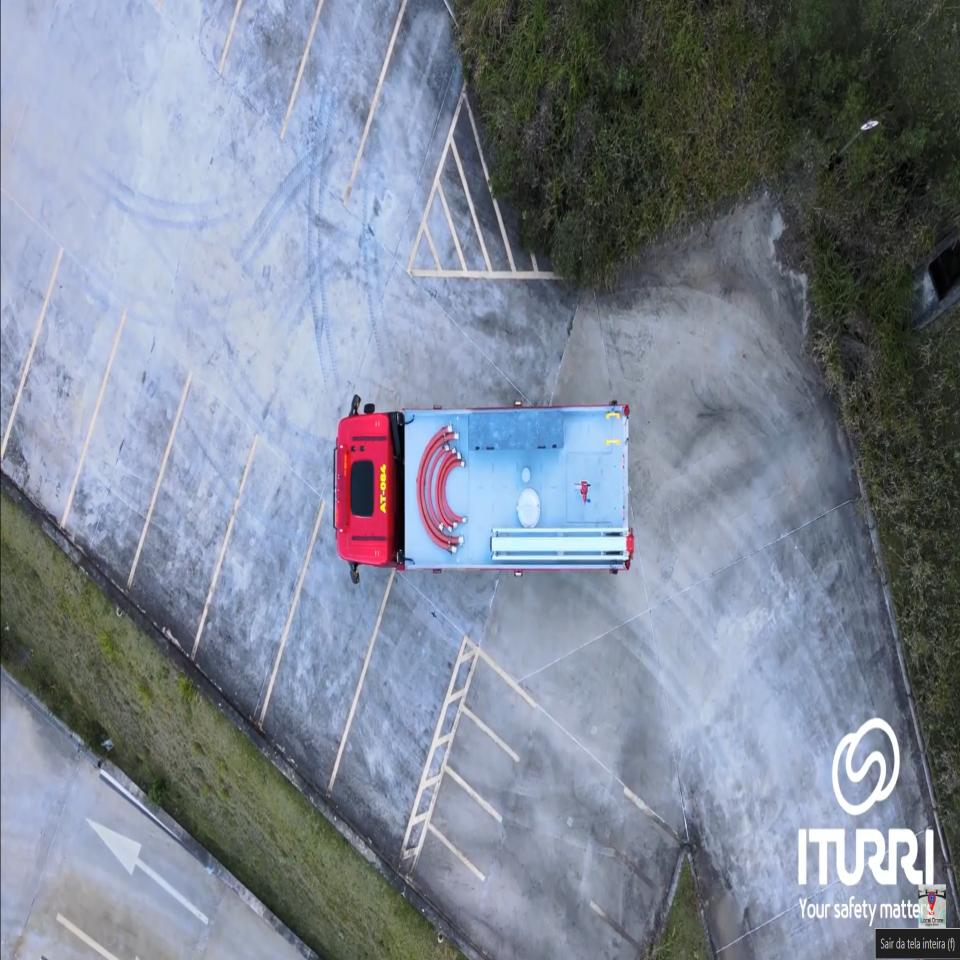viatura: (331, 399, 634, 589)
